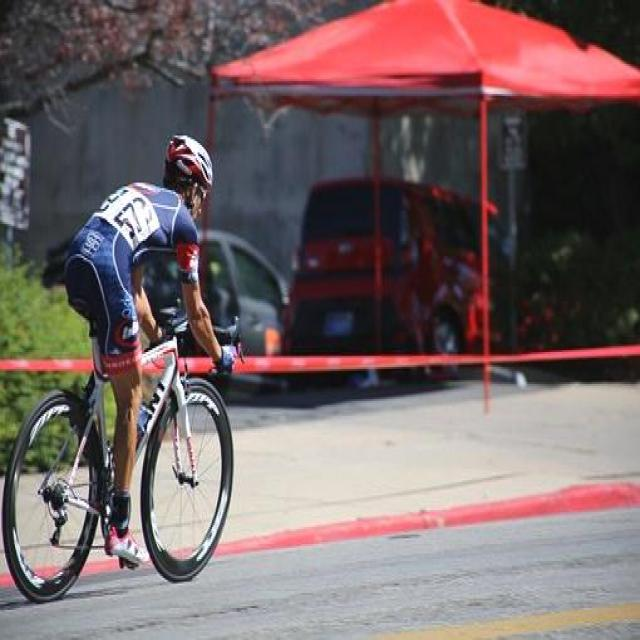bikerider: (0, 116, 248, 598)
